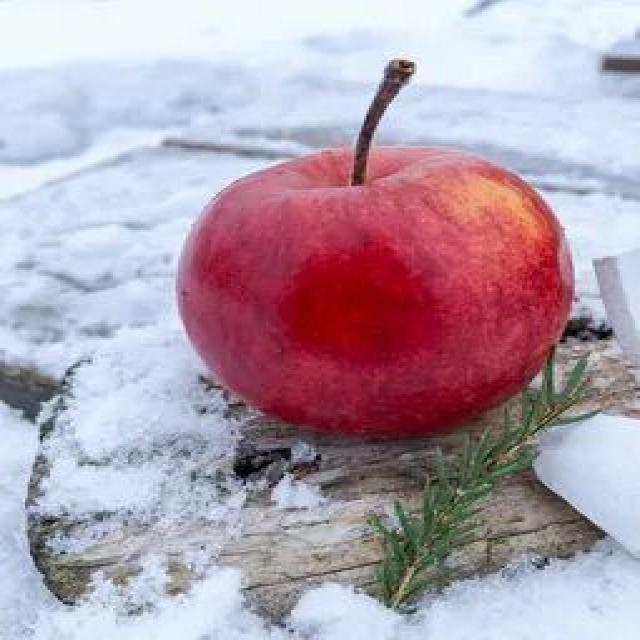Fresh Apple: (195, 155, 578, 438)
